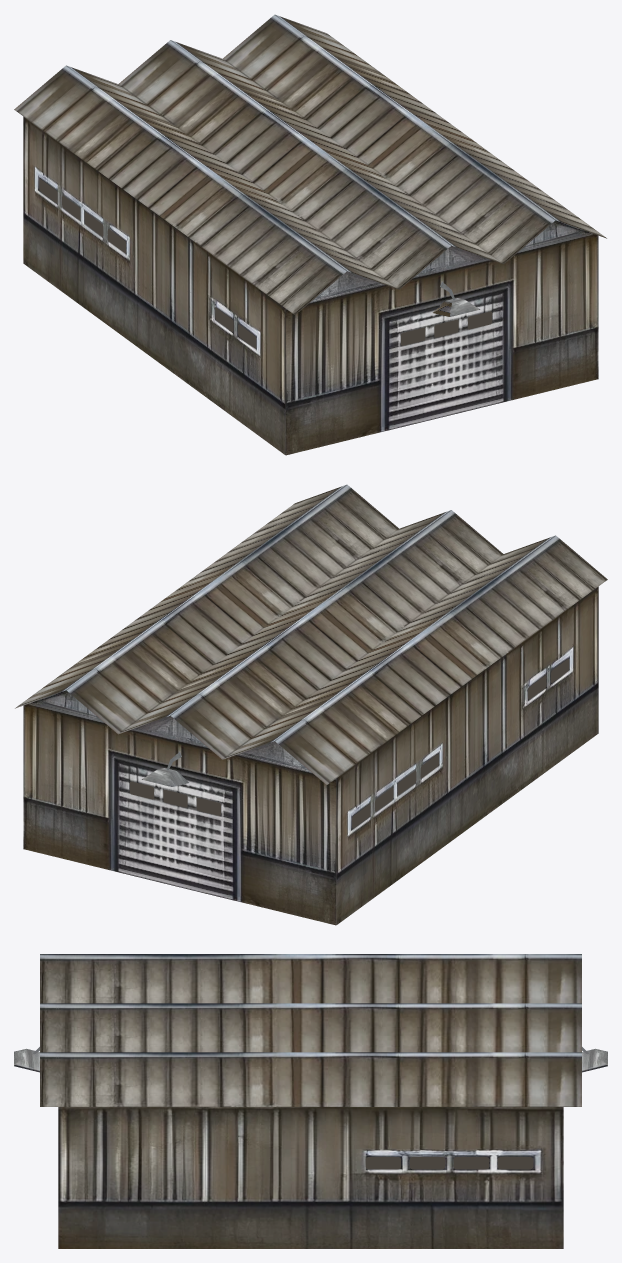
Rendered from civstoragea_hdtex.glb.
3 views of the same model, one above another, from view 1: azimuth 30°, elevation 25°; view 2: azimuth 150°, elevation 25°; view 3: azimuth 270°, elevation 25° (orthographic). The views are drawn at different scales.
Parts seen in each view (by area): view 1: Box02, LitWin_CivStorageA; view 2: Box02, LitWin_CivStorageA; view 3: Box02, LitWin_CivStorageA.
Part boxes in pixels (left/top/right/bottom): Box02: left=14, top=14, right=606, bottom=455; LitWin_CivStorageA: left=39, top=68, right=492, bottom=348; Box02: left=15, top=484, right=607, bottom=925; LitWin_CivStorageA: left=129, top=538, right=569, bottom=828; Box02: left=14, top=954, right=607, bottom=1248; LitWin_CivStorageA: left=365, top=1157, right=533, bottom=1169.
Size of the model in its own units: 7.71 by 4.2 by 13.15.
Materials: 1 (1 with a texture image).
